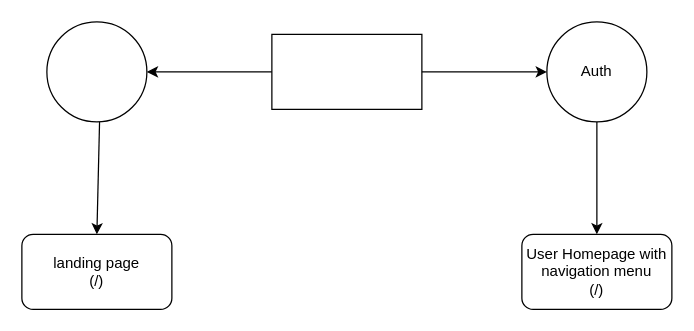
Some shapes in this 694 by 331 pixel diagram are drawn without their labels. Each missing label, with the centre of its shape:
"Not Auth" belongs at [96,71].
"Signin / SignOut" belongs at [346,71].
